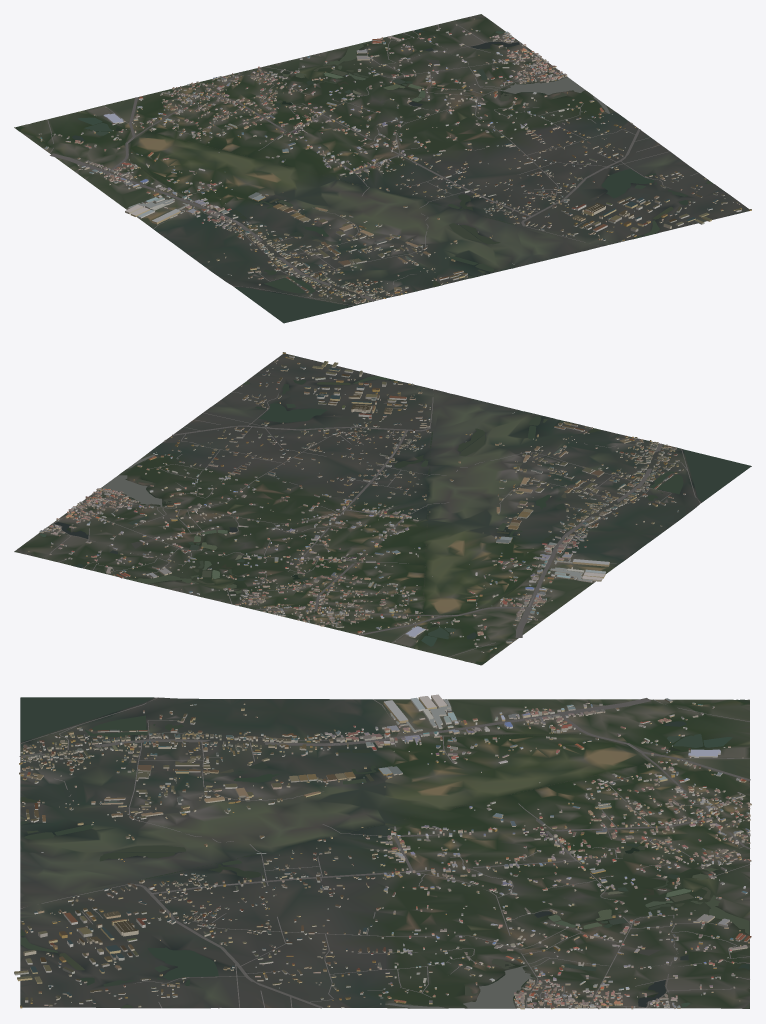
The picture shows the model from 3 angles, top to bottom: view 1: azimuth 30°, elevation 25°; view 2: azimuth 150°, elevation 25°; view 3: azimuth 270°, elevation 25°; orthographic projection. The views are drawn at different scales.
Parts seen in each view (by area): view 1: ground, buildings, water, roads; view 2: ground, buildings, water, roads; view 3: ground, buildings, water, roads.
Boxes of the visible parts, left/top/right/bottom form: ground: left=14, top=15, right=748, bottom=323; buildings: left=38, top=18, right=751, bottom=304; water: left=16, top=14, right=712, bottom=322; roads: left=47, top=21, right=698, bottom=305; ground: left=14, top=353, right=751, bottom=665; buildings: left=28, top=352, right=685, bottom=652; water: left=15, top=376, right=751, bottom=664; roads: left=50, top=389, right=700, bottom=657; ground: left=20, top=697, right=749, bottom=1008; buildings: left=14, top=694, right=751, bottom=1009; water: left=20, top=697, right=749, bottom=1008; roads: left=19, top=697, right=750, bottom=1008.
Bounding box in the file's own units: 2839 × 27.2 × 2836.
